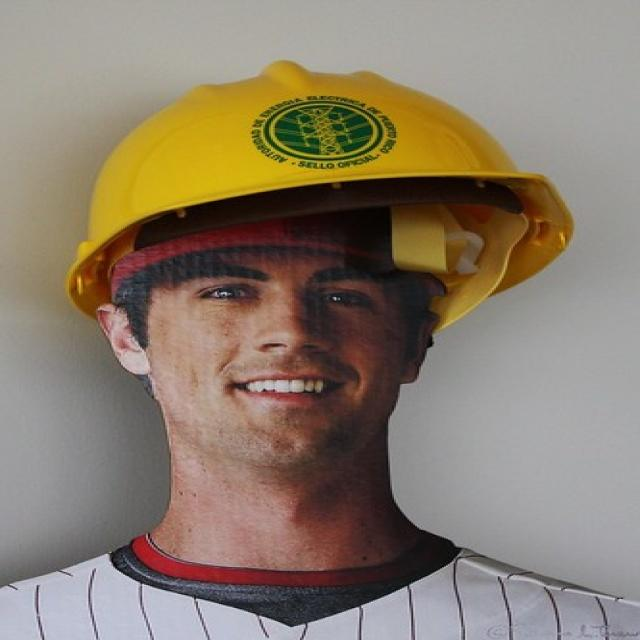helmet: (60, 65, 585, 363)
